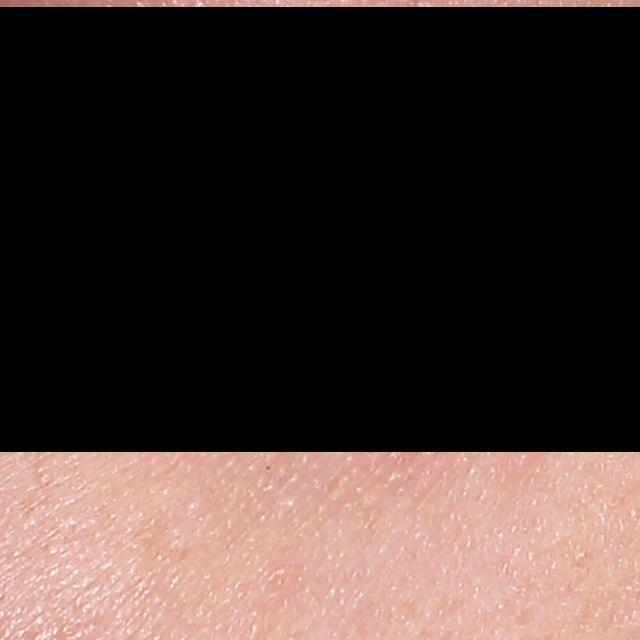melasma: (132, 504, 193, 569)
